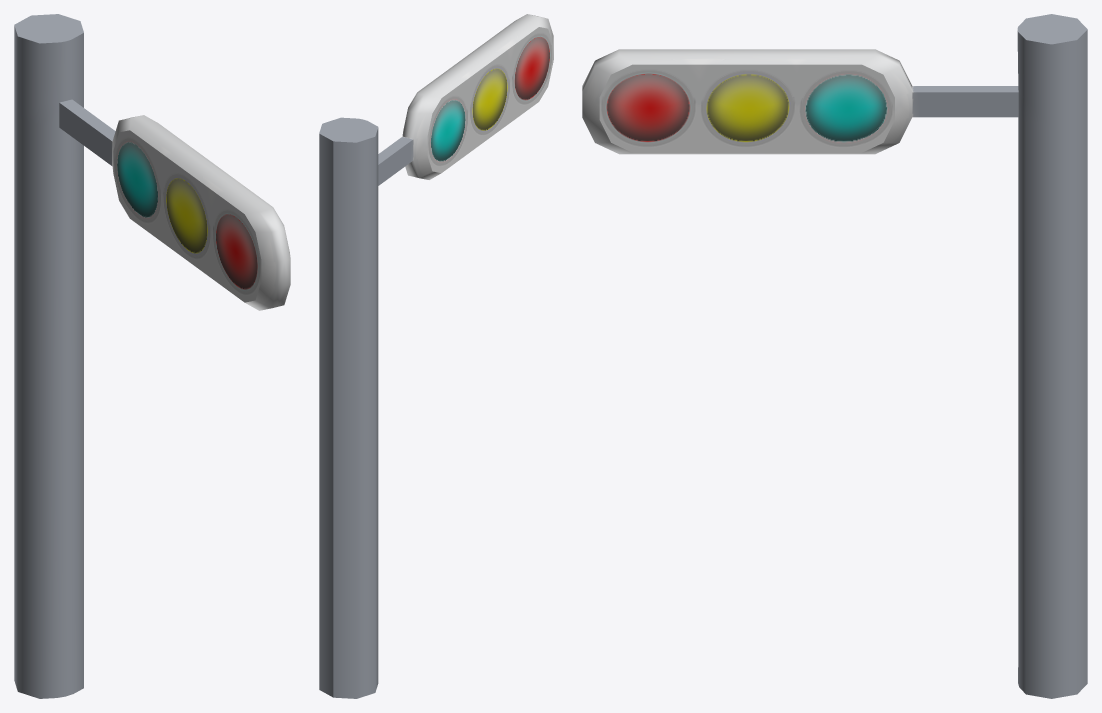
Rendered from singouki.fbx.
The picture shows the model from 3 angles, left to right: view 1: azimuth 30°, elevation 25°; view 2: azimuth 150°, elevation 25°; view 3: azimuth 270°, elevation 25°; orthographic projection. The views are drawn at different scales.
Parts seen in each view (by area): view 1: polySurface1; view 2: polySurface1; view 3: polySurface1.
Part boxes in pixels (x1,y1,x2,y2): polySurface1: (14,14,290,698); polySurface1: (319,14,553,698); polySurface1: (582,14,1087,698).
Size of the model in its own units: 1 by 10 by 7.
